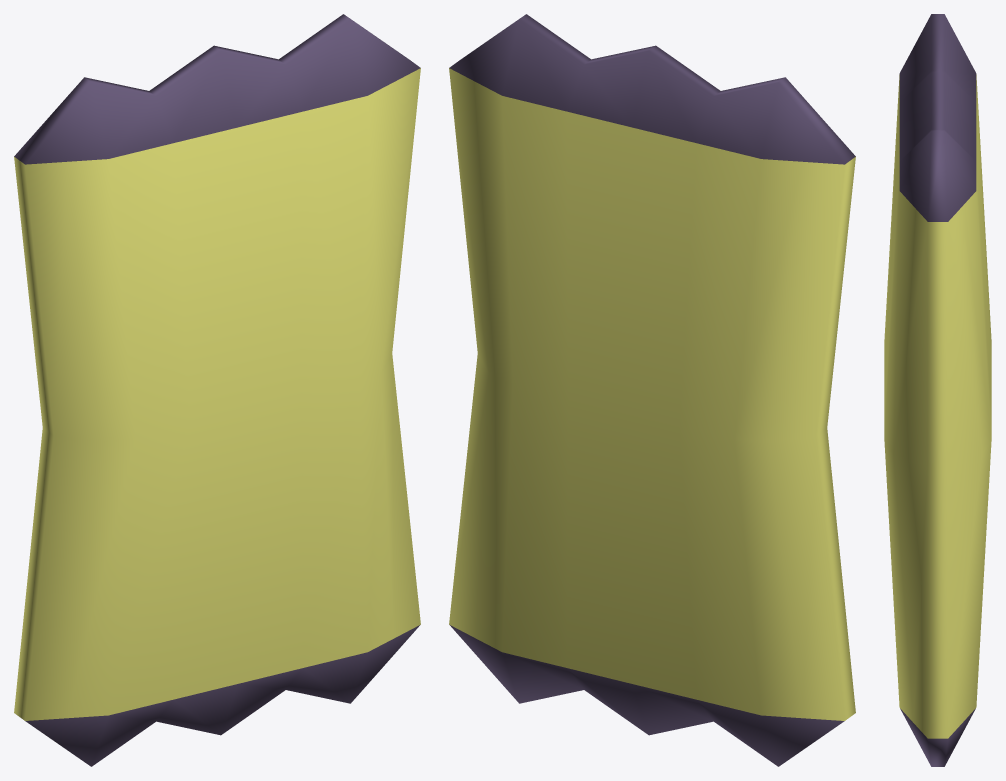
The model's file is PointsBar_MDL (2).fbx.
3 views of the same model, side by side, from view 1: azimuth 30°, elevation 25°; view 2: azimuth 150°, elevation 25°; view 3: azimuth 270°, elevation 25° (orthographic). The views are drawn at different scales.
Visible parts, largest first — view 1: PointsBar_GEO; view 2: PointsBar_GEO; view 3: PointsBar_GEO.
Boxes of the visible parts, box(x1,y1,x2,y2) form: PointsBar_GEO: box(14, 14, 420, 766); PointsBar_GEO: box(449, 14, 855, 766); PointsBar_GEO: box(884, 14, 991, 766).
Size of the model in its own units: 33.12 by 54.73 by 8.36.
